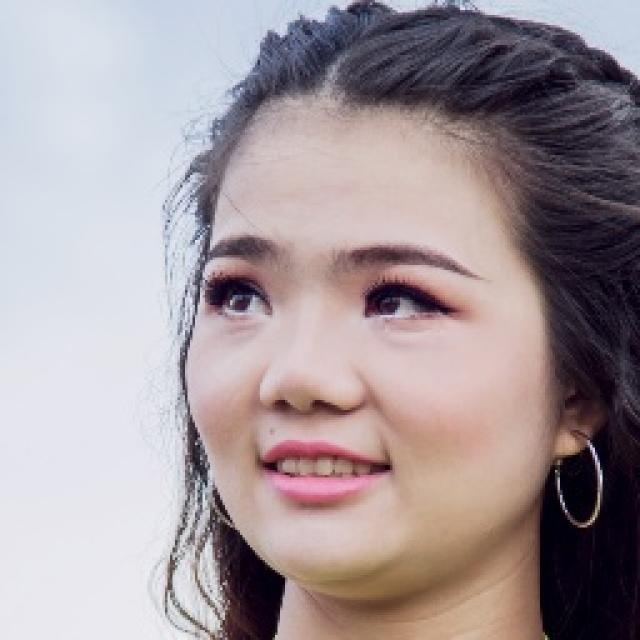earlobe: (555, 424, 593, 459)
eye: (209, 285, 275, 323), (367, 292, 445, 322)
nose: (267, 400, 358, 440)
wholeear: (555, 374, 612, 458)
